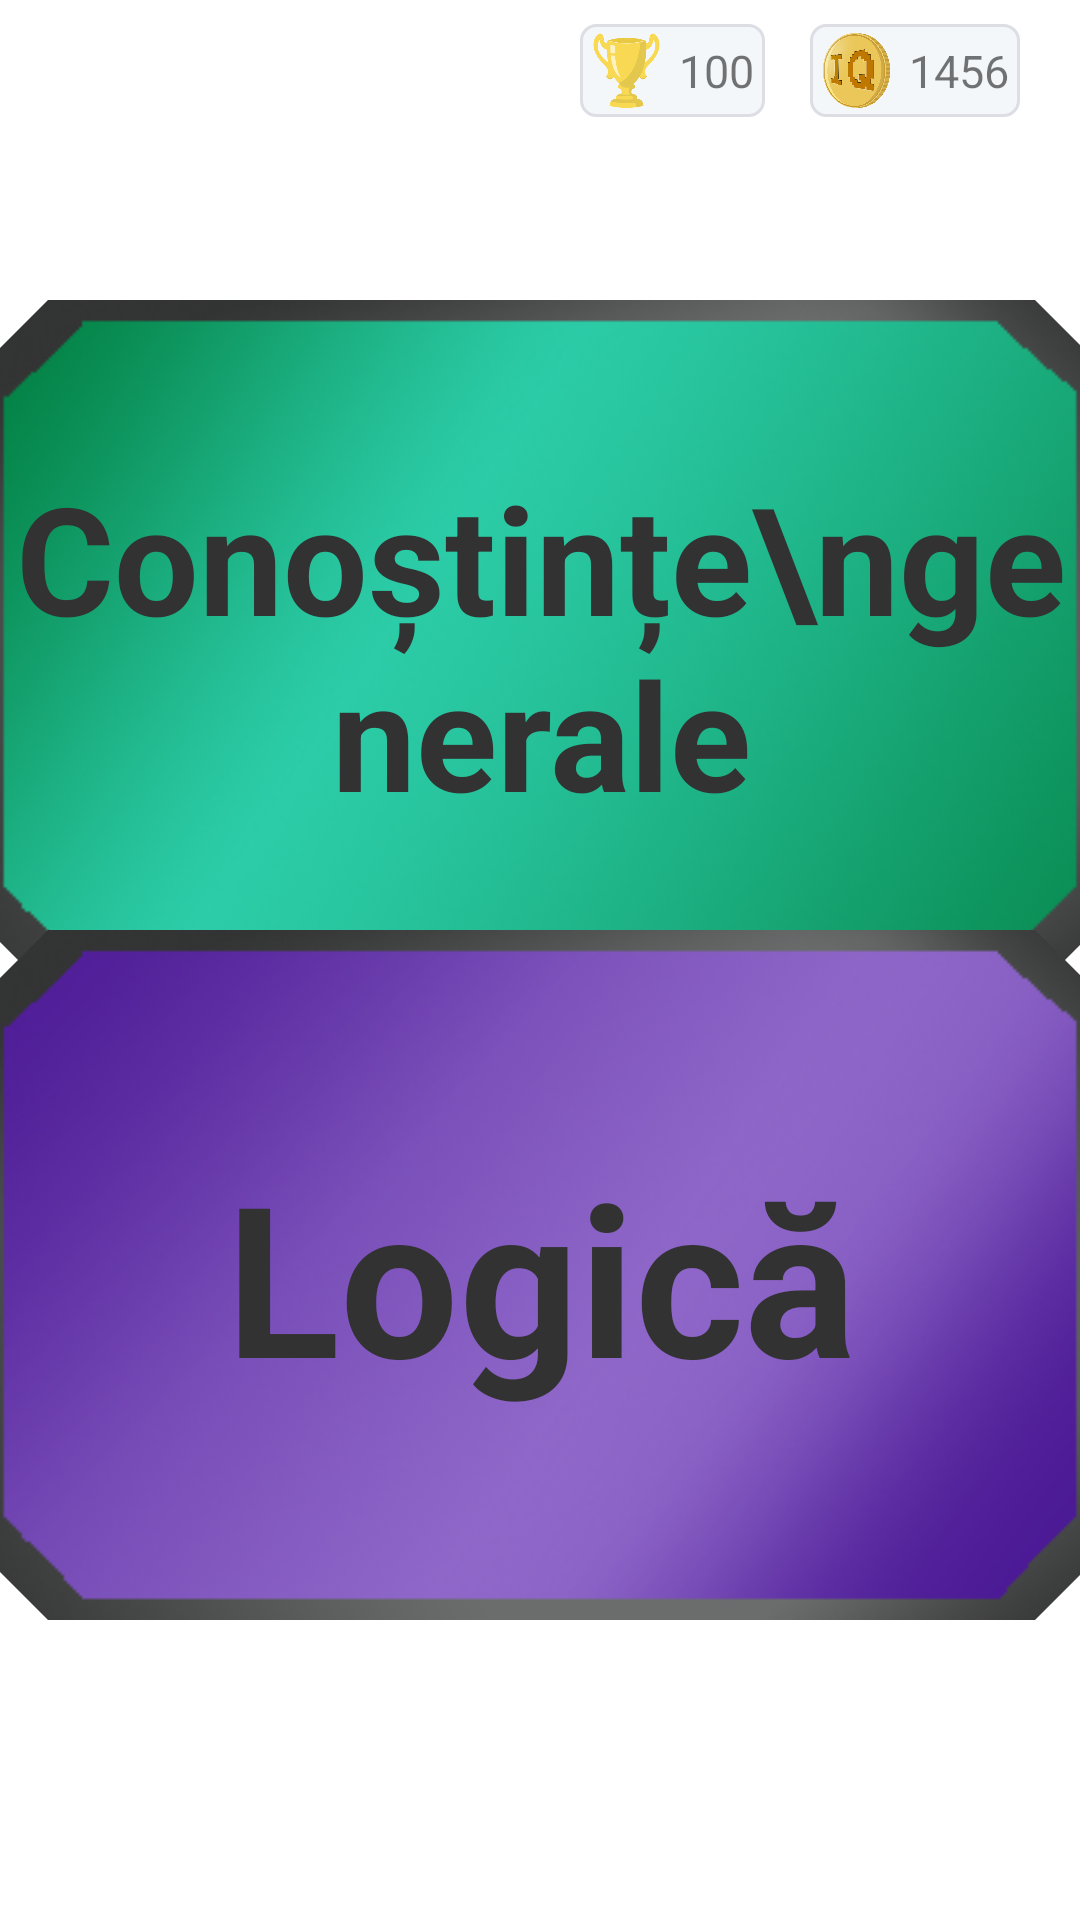

Icon click points for this 1080px×1920px phone screenshot, format (x,y):
glory: (626,70)
iq coin: (856,70)
